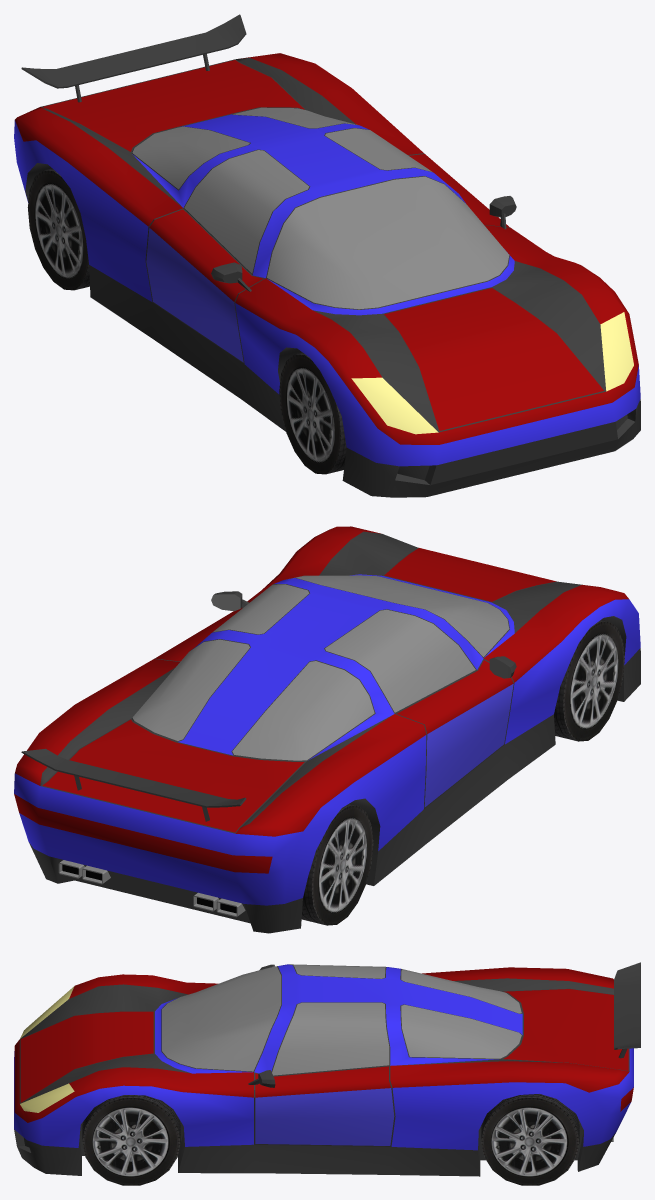
The model's file is car_11.FBX.
3 views of the same model, one above another, from view 1: azimuth 30°, elevation 25°; view 2: azimuth 150°, elevation 25°; view 3: azimuth 270°, elevation 25° (orthographic). The views are drawn at different scales.
Visible parts, largest first — view 1: Object006, Cylinder034, Cylinder033; view 2: Object006, Cylinder033, Cylinder034; view 3: Object006, Cylinder035, Cylinder036.
Boxes of the visible parts, x1,y1,x2,y2 form: Object006: (14,14,640,497); Cylinder034: (279,352,346,474); Cylinder033: (27,168,89,290); Object006: (14,526,640,933); Cylinder033: (301,803,373,925); Cylinder034: (554,619,624,741); Object006: (14,962,640,1176); Cylinder035: (481,1094,579,1185); Cylinder036: (82,1095,180,1185).
Bounding box in the file's own units: 2.14 × 1.22 × 4.88.
